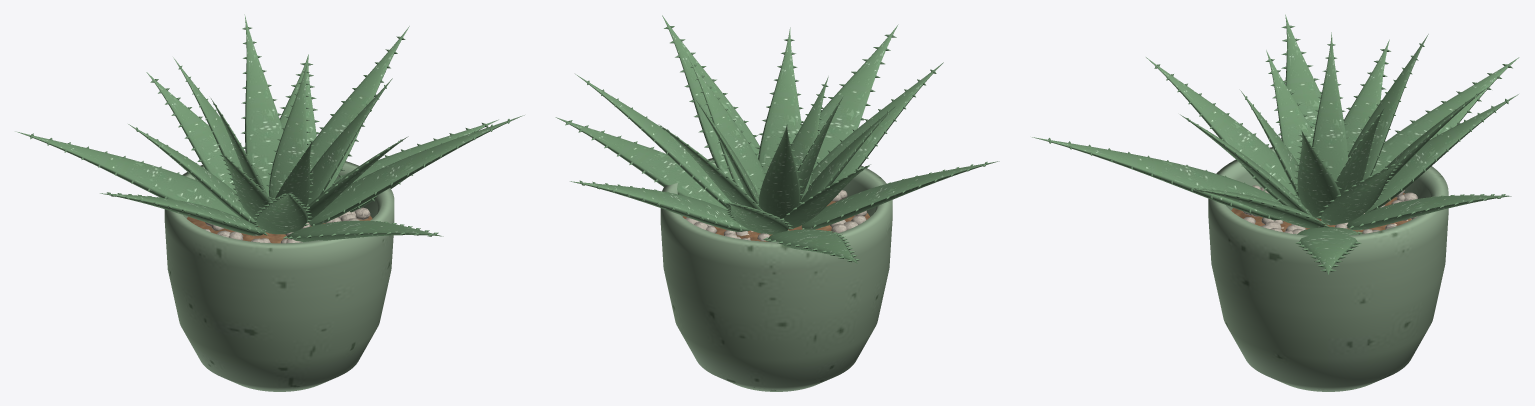
File: aloe.glb
3 views of the same model, side by side, from view 1: azimuth 30°, elevation 25°; view 2: azimuth 150°, elevation 25°; view 3: azimuth 270°, elevation 25° (orthographic). The views are drawn at different scales.
Visible parts, largest first — view 1: piece-0, piece-4, piece-14, piece-8, piece-11, piece-19, piece-9, piece-5, piece-7, piece-16, piece-10, piece-12 (+9 smaller); view 2: piece-0, piece-5, piece-3, piece-13, piece-8, piece-7, piece-6, piece-17, piece-10, piece-16, piece-11, piece-4 (+9 smaller); view 3: piece-0, piece-5, piece-10, piece-20, piece-4, piece-9, piece-16, piece-6, piece-11, piece-7, piece-17, piece-15 (+9 smaller).
Part boxes in pixels (x1=…): piece-0: x1=164, y1=161, x2=394, y2=391; piece-4: x1=15, y1=131, x2=240, y2=217; piece-14: x1=241, y1=14, x2=283, y2=196; piece-8: x1=308, y1=115, x2=524, y2=225; piece-11: x1=309, y1=26, x2=409, y2=192; piece-19: x1=266, y1=61, x2=309, y2=201; piece-9: x1=146, y1=72, x2=236, y2=193; piece-5: x1=283, y1=220, x2=443, y2=241; piece-7: x1=100, y1=192, x2=267, y2=235; piece-16: x1=306, y1=78, x2=392, y2=206; piece-10: x1=252, y1=193, x2=312, y2=234; piece-12: x1=128, y1=124, x2=257, y2=224; piece-0: x1=660, y1=158, x2=892, y2=391; piece-5: x1=813, y1=24, x2=898, y2=169; piece-3: x1=555, y1=117, x2=727, y2=209; piece-13: x1=755, y1=27, x2=803, y2=174; piece-8: x1=662, y1=15, x2=759, y2=179; piece-7: x1=801, y1=161, x2=999, y2=229; piece-6: x1=570, y1=180, x2=750, y2=231; piece-17: x1=756, y1=124, x2=803, y2=218; piece-10: x1=809, y1=62, x2=943, y2=194; piece-16: x1=688, y1=56, x2=765, y2=195; piece-11: x1=575, y1=74, x2=731, y2=207; piece-4: x1=763, y1=229, x2=860, y2=263; piece-0: x1=1208, y1=147, x2=1448, y2=391; piece-5: x1=1032, y1=137, x2=1287, y2=222; piece-10: x1=1146, y1=57, x2=1300, y2=205; piece-20: x1=1310, y1=32, x2=1350, y2=180; piece-4: x1=1371, y1=57, x2=1519, y2=175; piece-9: x1=1365, y1=94, x2=1518, y2=213; piece-16: x1=1294, y1=130, x2=1341, y2=218; piece-6: x1=1346, y1=194, x2=1511, y2=230; piece-11: x1=1316, y1=162, x2=1401, y2=225; piece-7: x1=1279, y1=14, x2=1321, y2=139; piece-17: x1=1348, y1=34, x2=1428, y2=179; piece-15: x1=1265, y1=50, x2=1313, y2=195.
Bounding box in the file's own units: 0.3478 × 0.2296 × 0.3352.
Materials: 4 (4 with a texture image).
